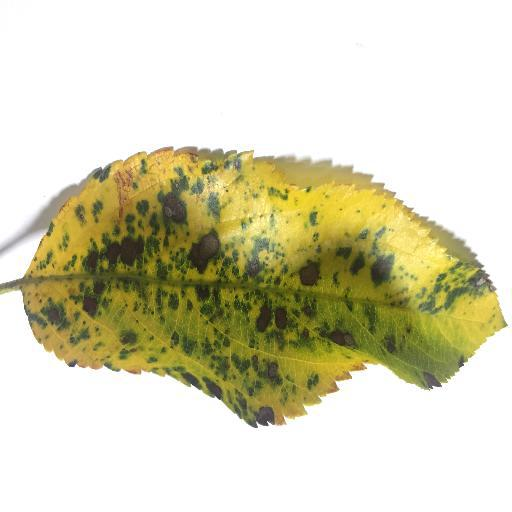Brown_Spot: (254, 301, 306, 341), (116, 162, 138, 221), (191, 232, 221, 266), (160, 195, 191, 222), (365, 258, 392, 282), (258, 364, 281, 384), (298, 258, 316, 281), (78, 296, 95, 316)
